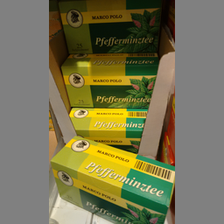tea: (50, 135, 174, 224), (58, 1, 165, 54), (59, 54, 161, 108)
